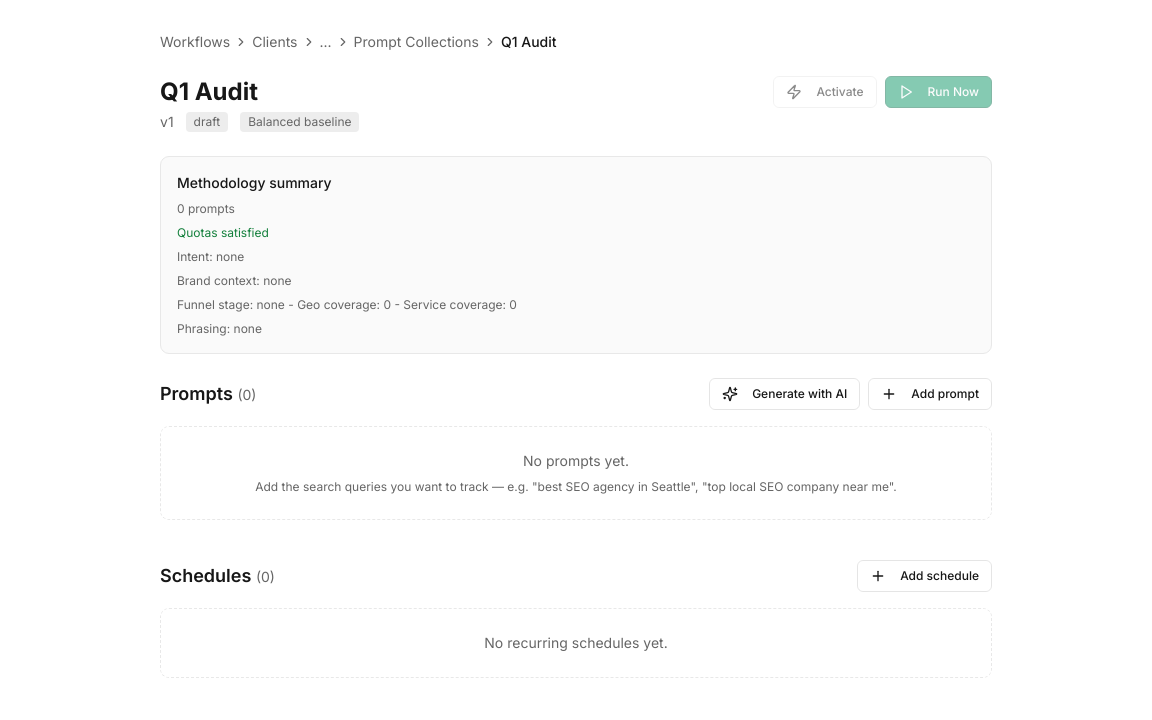
it: PromptCollectionDetail — AI prompt generation › shows the legacy category as a derived, non-editable label that updates when intent type changes (issue #4 Phase 3 item H)
This screenshot has width=1152, height=720.
Click the button "Generate with AI".
click(785, 394)  # box [709,378,860,410]
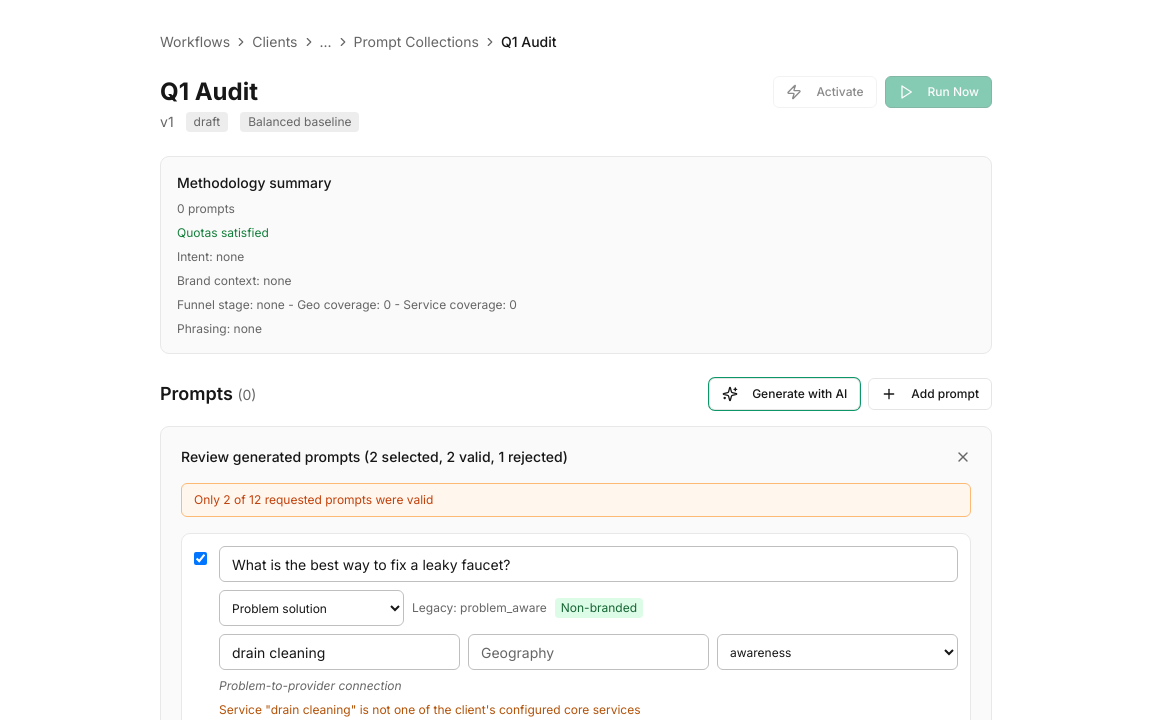
Check: the field showing "What is the best way to fix a leaky faucet?" is shown, box [219,546,958,582]
Check: the text "Legacy: problem_aware" is shown, box [412,600,547,616]
Select "Brand validation" in the dropdown named "intent type" at (312, 608), box [219,590,404,626]
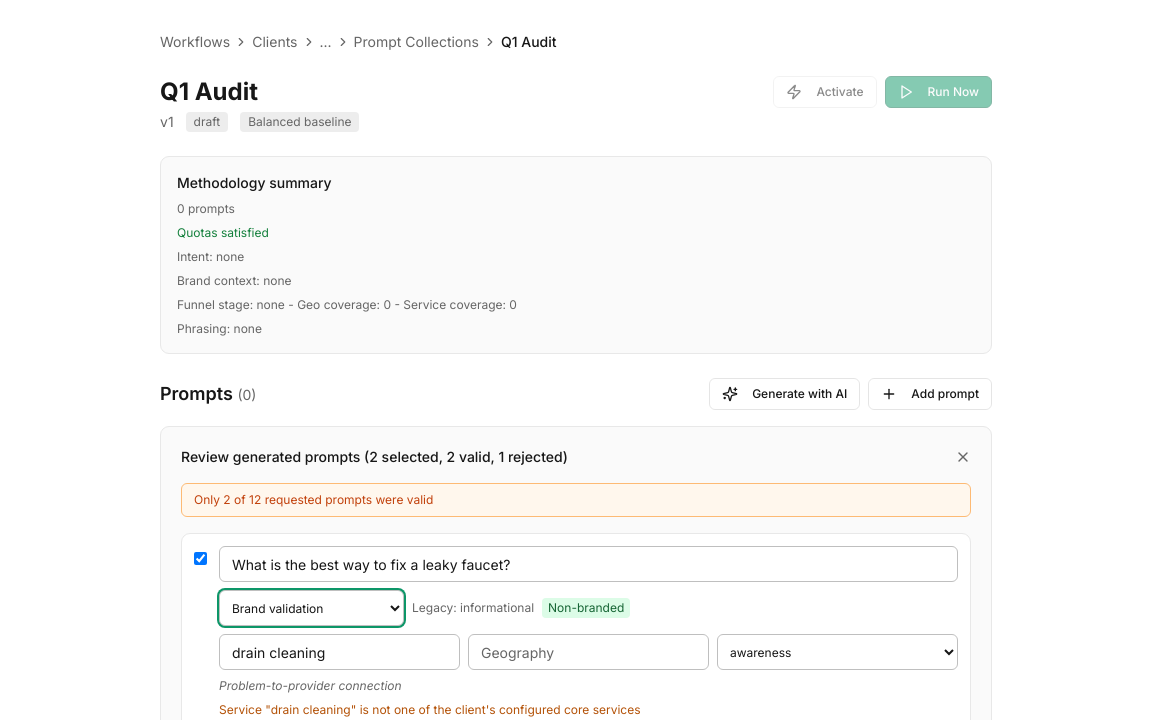
Check: the text "Legacy: informational" is shown, box [412,600,534,616]
